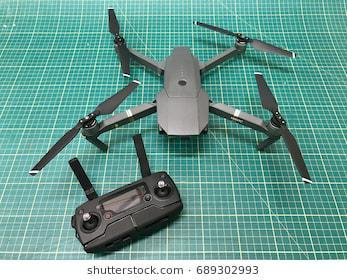drone: (26, 5, 316, 179)
